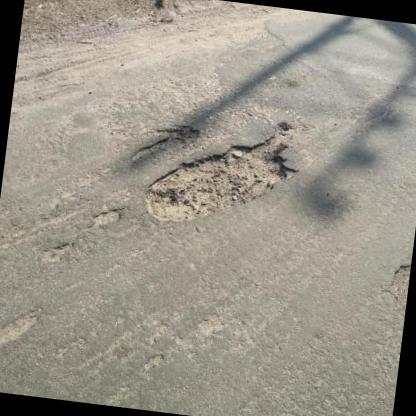pothole: (143, 103, 305, 239), (126, 116, 202, 172), (0, 297, 46, 363), (386, 260, 410, 313), (87, 203, 127, 232)
